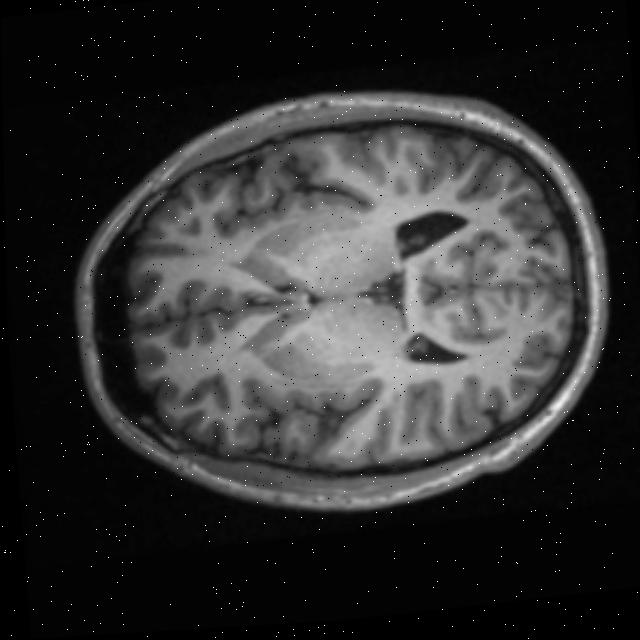NoTumor: (58, 60, 626, 545)
